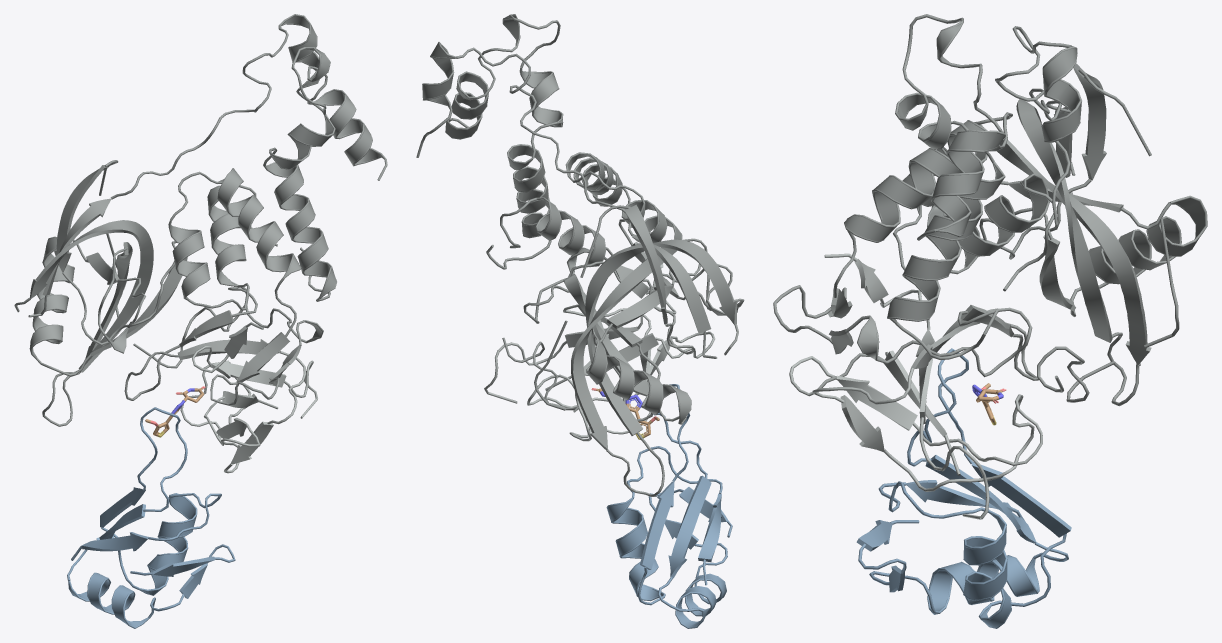
The model's file is 9DWV_reference.glb.
3 views of the same model, side by side, from view 1: azimuth 30°, elevation 25°; view 2: azimuth 150°, elevation 25°; view 3: azimuth 270°, elevation 25° (orthographic). The views are drawn at different scales.
Visible parts, largest first — view 1: node-geom57, node-geom58; view 2: node-geom57, node-geom58; view 3: node-geom57, node-geom58.
Part boxes in pixels (x1,y1,x2,y2): node-geom57: (14, 14, 387, 426); node-geom58: (67, 322, 317, 628); node-geom57: (416, 14, 744, 496); node-geom58: (484, 264, 732, 628); node-geom57: (773, 14, 1207, 406); node-geom58: (789, 253, 1071, 628).
Size of the model in its own units: 57.4 by 89.49 by 49.74.
